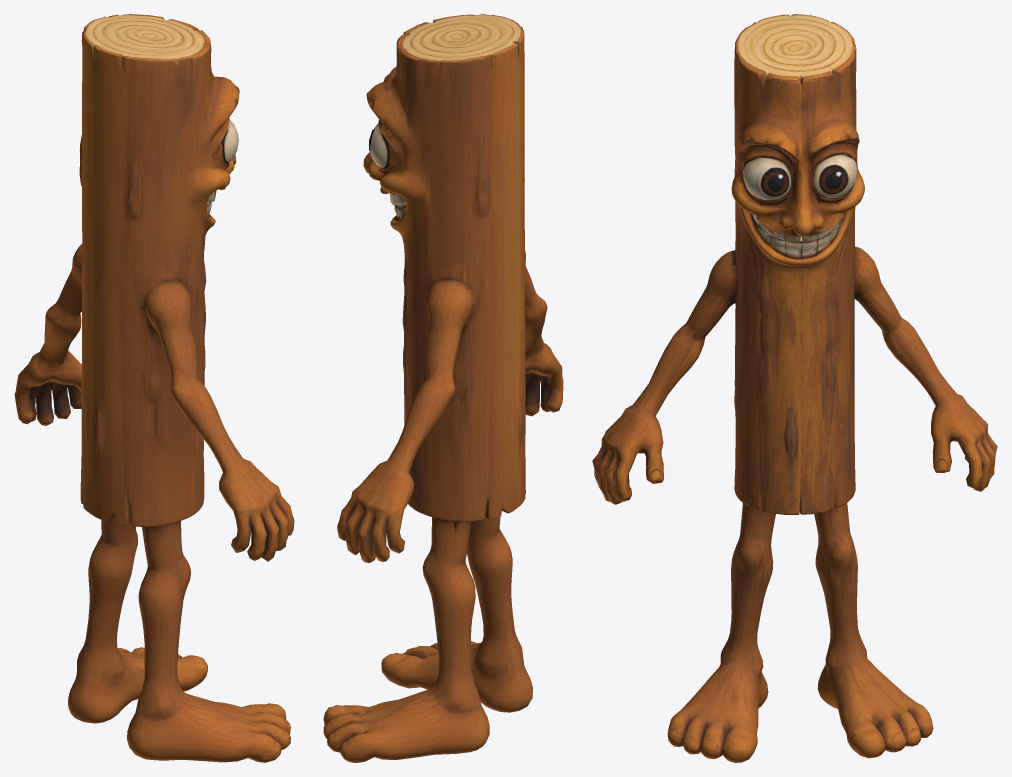
The model's file is tung.glb.
3 views of the same model, side by side, from view 1: azimuth 30°, elevation 25°; view 2: azimuth 150°, elevation 25°; view 3: azimuth 270°, elevation 25° (orthographic). The views are drawn at different scales.
Parts seen in each view (by area): view 1: tripo_node_6a147a86-5cc6-45e6-a3bd-4711bf664fd7; view 2: tripo_node_6a147a86-5cc6-45e6-a3bd-4711bf664fd7; view 3: tripo_node_6a147a86-5cc6-45e6-a3bd-4711bf664fd7.
Boxes of the visible parts, <box> form: tripo_node_6a147a86-5cc6-45e6-a3bd-4711bf664fd7: <box>14,14,294,762</box>; tripo_node_6a147a86-5cc6-45e6-a3bd-4711bf664fd7: <box>323,14,563,762</box>; tripo_node_6a147a86-5cc6-45e6-a3bd-4711bf664fd7: <box>592,14,997,762</box>.
Size of the model in its own units: 0.2473 by 0.9995 by 0.5412.
Materials: 1 (1 with a texture image).
